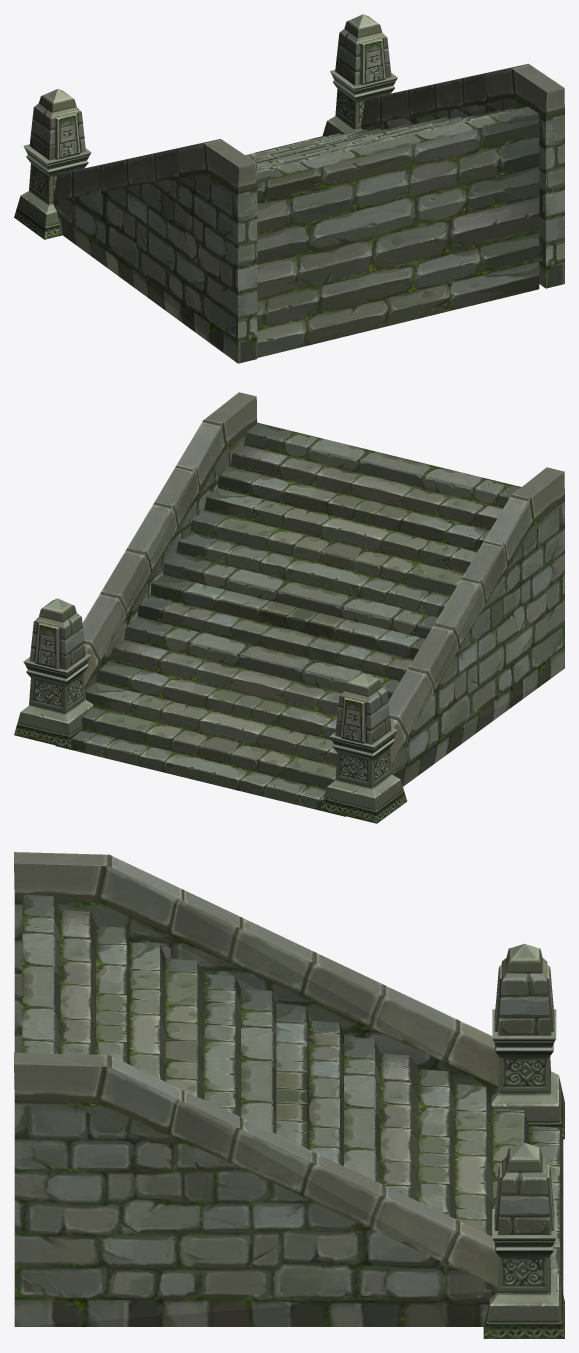
File: ForsakenTemple_stairA.FBX
3 renders of one model, top to bottom at view 1: azimuth 30°, elevation 25°; view 2: azimuth 150°, elevation 25°; view 3: azimuth 270°, elevation 25°, orthographic. The views are drawn at different scales.
Visible parts, largest first — view 1: ForsakenTemple_stairA; view 2: ForsakenTemple_stairA; view 3: ForsakenTemple_stairA.
Boxes of the visible parts, <box> form: ForsakenTemple_stairA: <box>14,14,564,363</box>; ForsakenTemple_stairA: <box>14,392,564,823</box>; ForsakenTemple_stairA: <box>14,852,564,1338</box>.
Size of the model in its own units: 285 by 149 by 281.
